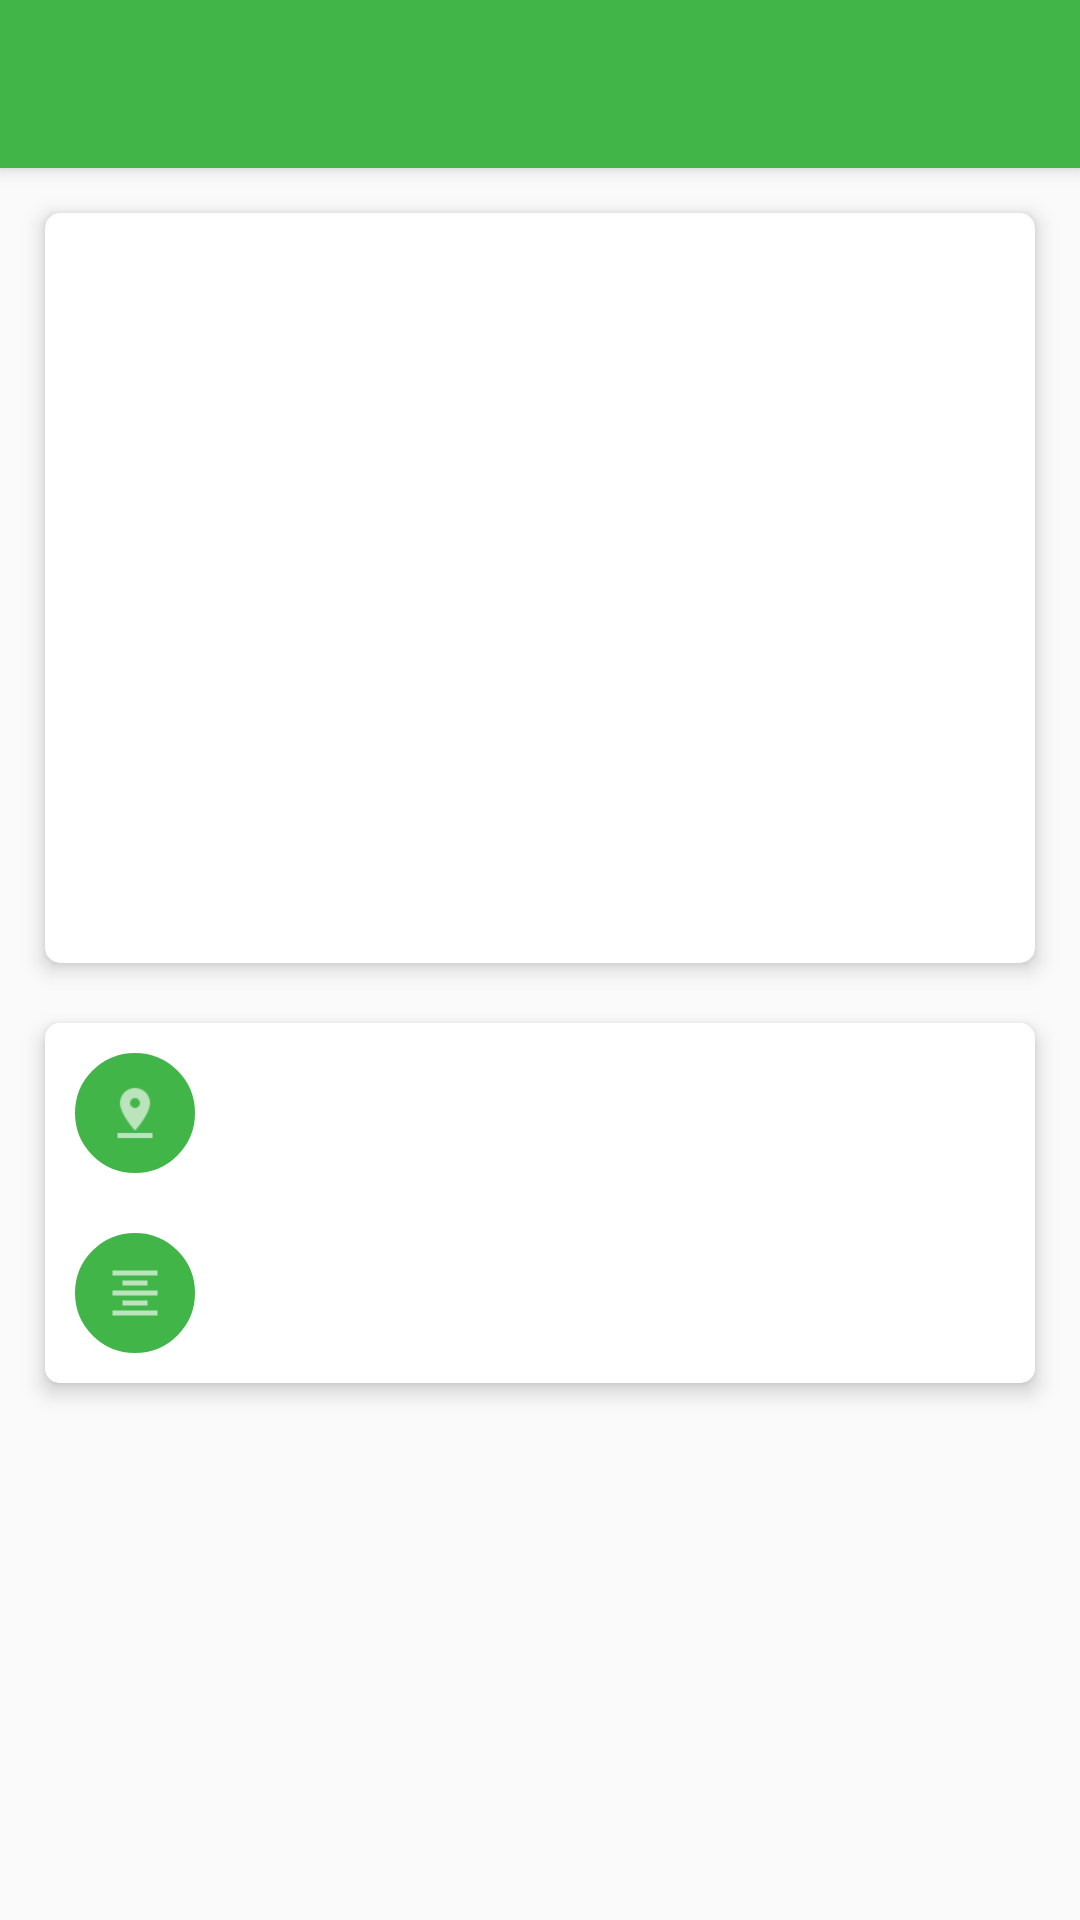

Icon click points for this 1080*1920 phone screenshot, format [x,y]:
dtl desc: [135,1293]
dtl wisata: [135,1113]
